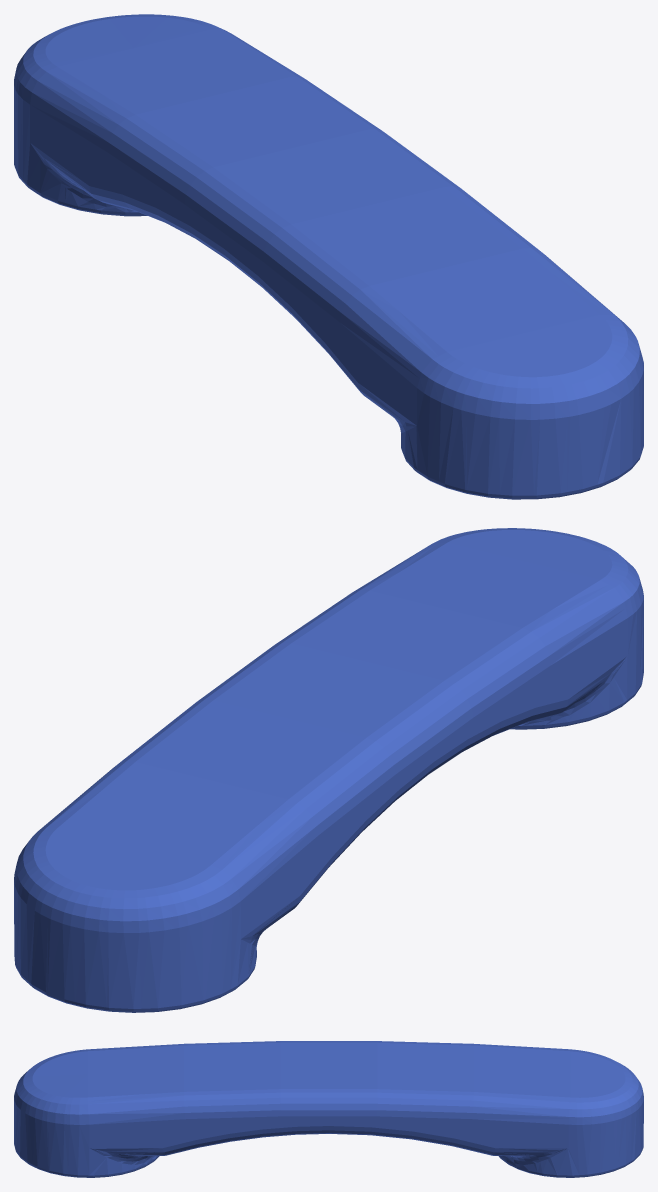
File: arm_2_link.dae
3 views of the same model, one above another, from view 1: azimuth 30°, elevation 25°; view 2: azimuth 150°, elevation 25°; view 3: azimuth 270°, elevation 25° (orthographic). The views are drawn at different scales.
Visible parts, largest first — view 1: arm_2_link; view 2: arm_2_link; view 3: arm_2_link.
Part boxes in pixels (left/top/right/bottom): arm_2_link: left=14, top=14, right=643, bottom=499; arm_2_link: left=14, top=528, right=643, bottom=1012; arm_2_link: left=14, top=1041, right=643, bottom=1177.
Bounding box in the file's own units: 0.11 × 0.46 × 0.0657.
Materials: 1 (1 with a texture image).
